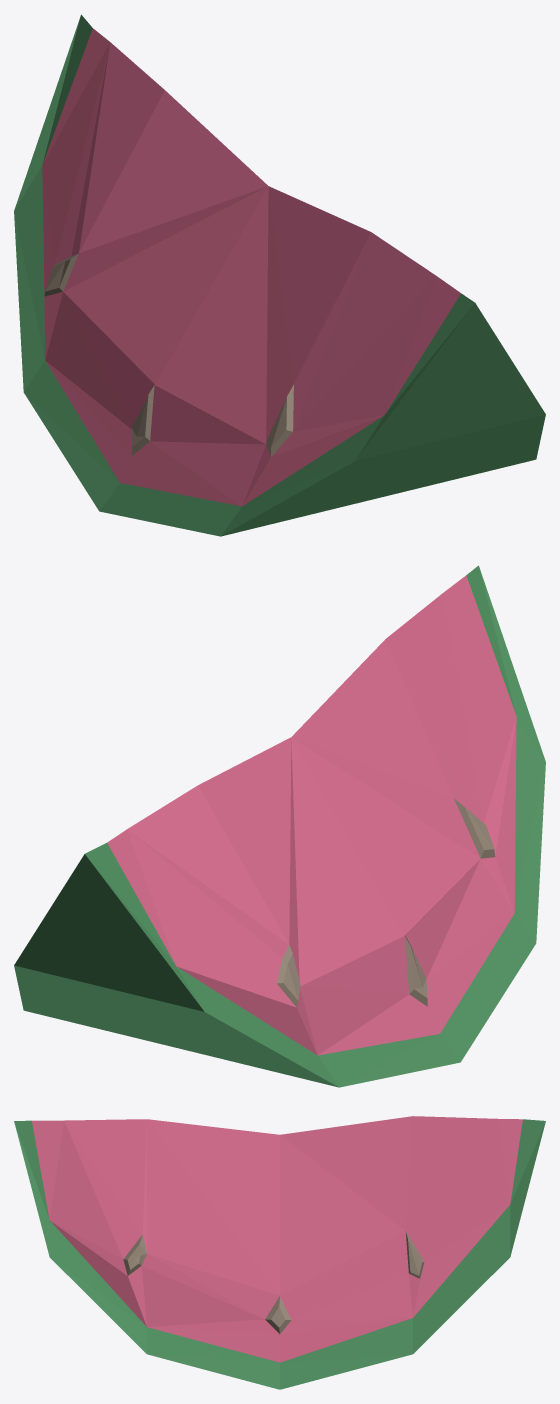
Rendered from melon.fbx.
3 renders of one model, top to bottom at view 1: azimuth 30°, elevation 25°; view 2: azimuth 150°, elevation 25°; view 3: azimuth 270°, elevation 25°, orthographic. The views are drawn at different scales.
Parts seen in each view (by area): view 1: pSphere1; view 2: pSphere1; view 3: pSphere1.
Boxes of the visible parts, x1,y1,x2,y2 form: pSphere1: (14, 14, 545, 536); pSphere1: (14, 565, 545, 1087); pSphere1: (14, 1116, 545, 1389).
Size of the model in its own units: 0.0106 by 0.00866 by 0.02.
